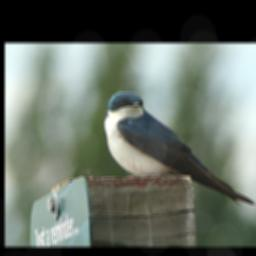Swallow: (104, 91, 256, 207)
